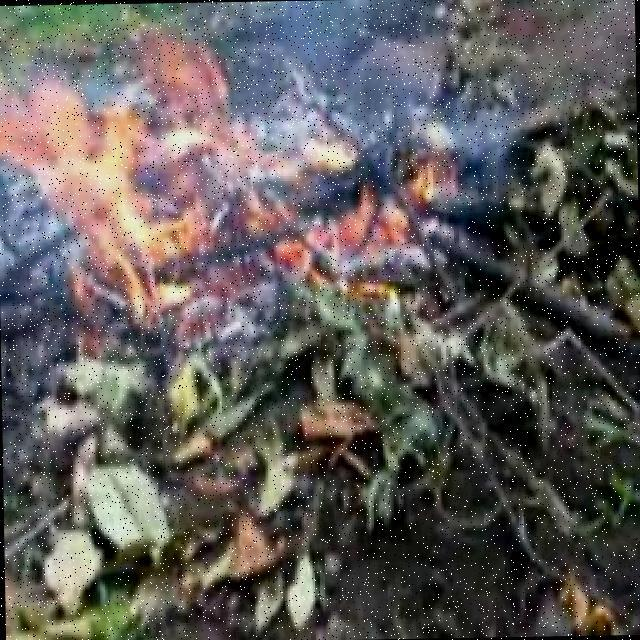Fire: (11, 20, 456, 313)
